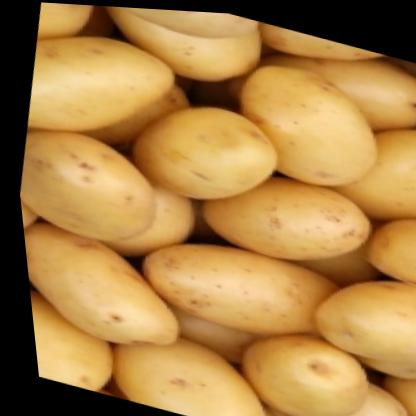potato: (130, 217, 376, 365), (13, 10, 204, 168), (17, 212, 198, 363), (220, 49, 389, 205), (185, 149, 380, 276), (9, 108, 169, 255), (116, 82, 287, 217), (226, 313, 392, 416), (105, 321, 267, 416)
